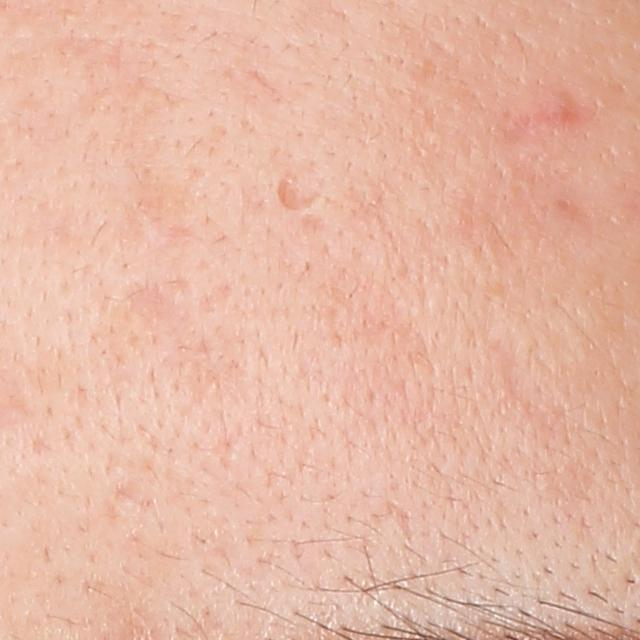atrophic_scar: (269, 163, 326, 216), (191, 280, 240, 323)
